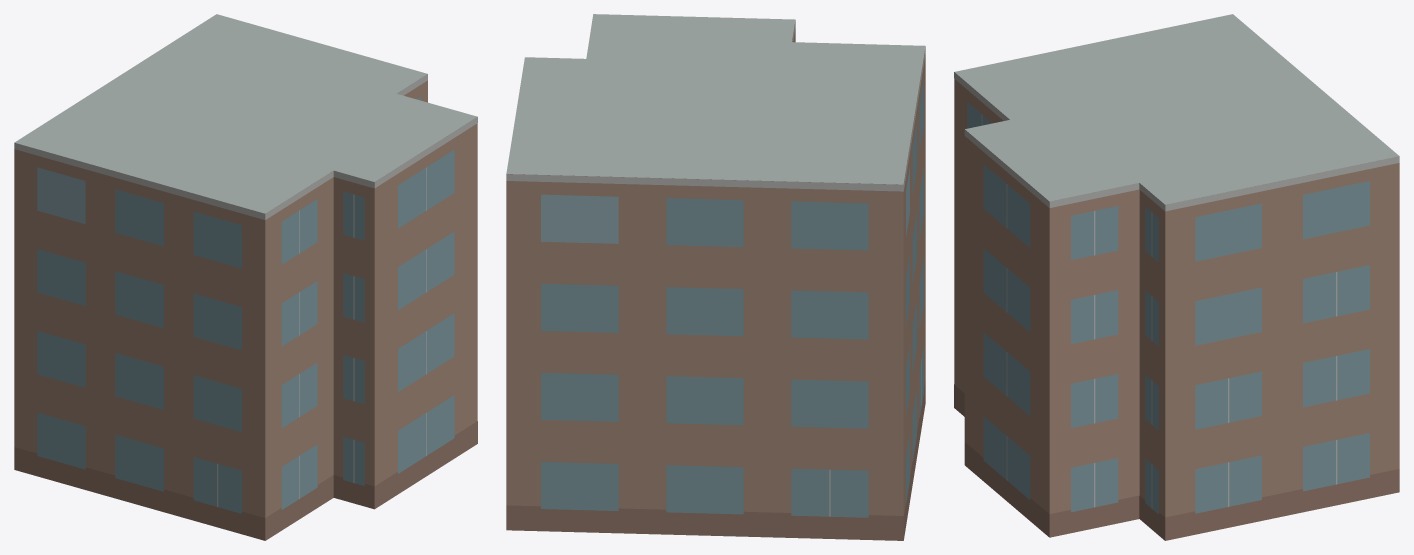
File: survey-upis-32800753.glb
3 renders of one model, left to right at view 1: azimuth 30°, elevation 25°; view 2: azimuth 150°, elevation 25°; view 3: azimuth 270°, elevation 25°, orthographic. The views are drawn at different scales.
Visible parts, largest first — view 1: survey-upis-32800753.tmp; view 2: survey-upis-32800753.tmp; view 3: survey-upis-32800753.tmp.
Part boxes in pixels (box(x1,y1,x2,y2)): survey-upis-32800753.tmp: box(14, 14, 477, 540); survey-upis-32800753.tmp: box(506, 14, 925, 540); survey-upis-32800753.tmp: box(954, 14, 1399, 540).
Size of the model in its own units: 15.17 by 12.45 by 14.97.
